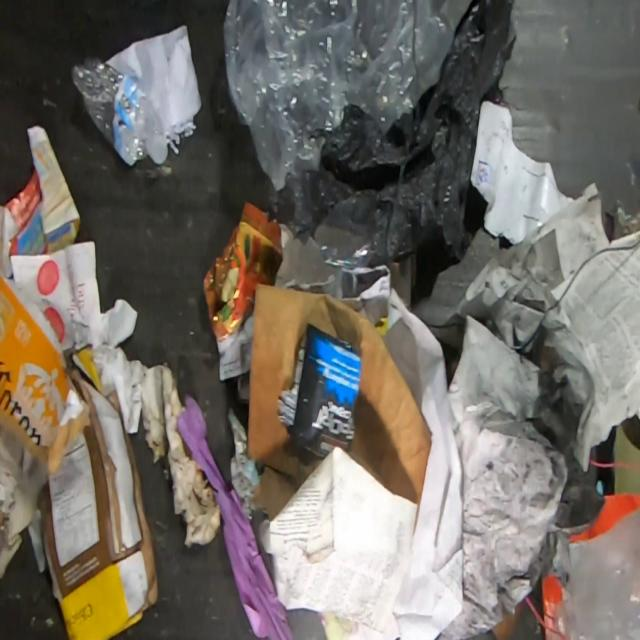cardboard: (246, 283, 431, 503), (40, 346, 159, 639), (0, 275, 91, 576), (541, 573, 563, 640)
rigid_plastic: (68, 54, 166, 166)
soft_plastic: (266, 1, 517, 307), (222, 0, 472, 196), (554, 506, 640, 640), (273, 192, 376, 294)
